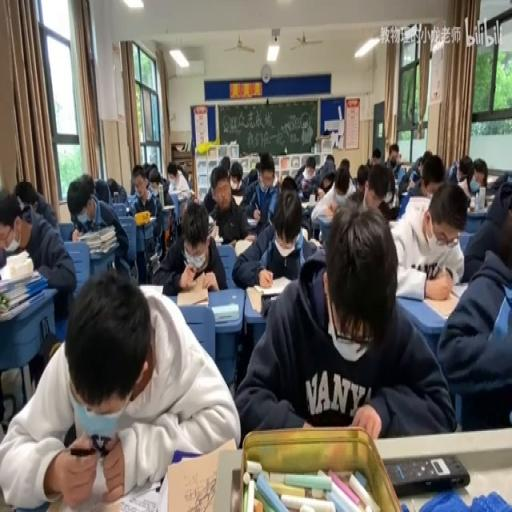calculator: (165, 441, 237, 510), (56, 469, 160, 512), (244, 276, 291, 311), (422, 287, 461, 319), (0, 268, 42, 294), (174, 283, 209, 306), (212, 300, 238, 322), (3, 248, 30, 263), (234, 236, 252, 256), (450, 280, 469, 296), (143, 282, 165, 294), (306, 234, 322, 248), (466, 206, 488, 215), (206, 218, 216, 234), (149, 250, 159, 266), (232, 195, 242, 206), (301, 199, 311, 209), (246, 218, 258, 226), (301, 226, 307, 240), (485, 175, 495, 183), (162, 204, 174, 210), (214, 235, 223, 243), (188, 189, 195, 196)
paper: (4, 266, 238, 506), (235, 204, 450, 440), (438, 194, 510, 430), (0, 186, 76, 322), (66, 172, 130, 282), (154, 199, 225, 293), (129, 162, 165, 256), (310, 162, 354, 226), (242, 151, 278, 226), (482, 181, 510, 229), (294, 154, 320, 198), (166, 161, 192, 203), (403, 149, 429, 189), (384, 141, 406, 185), (105, 176, 126, 202), (229, 161, 244, 196), (472, 158, 487, 189), (458, 156, 474, 180), (279, 174, 298, 192), (355, 164, 368, 186), (147, 171, 160, 192), (335, 178, 348, 198), (124, 192, 138, 210), (218, 154, 230, 174), (446, 159, 458, 179), (371, 146, 382, 165), (142, 160, 152, 178), (248, 166, 258, 184), (324, 154, 334, 170), (339, 156, 350, 170), (322, 180, 332, 194), (254, 160, 261, 174), (416, 156, 422, 170), (366, 158, 371, 168)
person: (384, 454, 470, 496)
